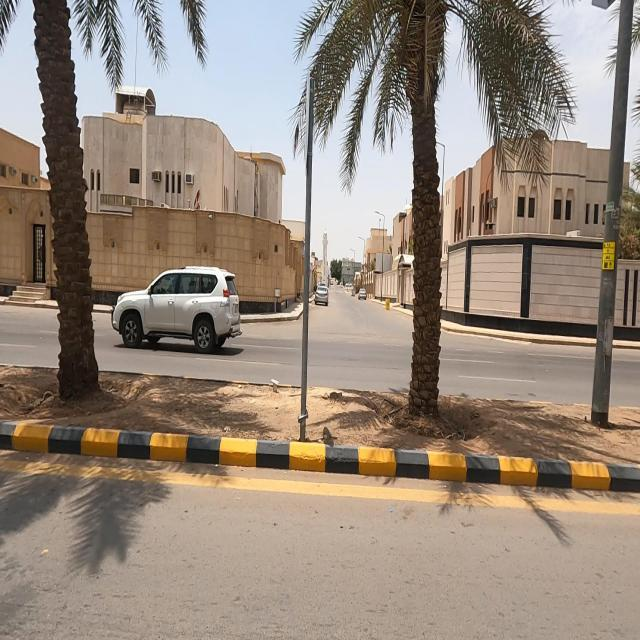debris: (262, 364, 290, 399)
